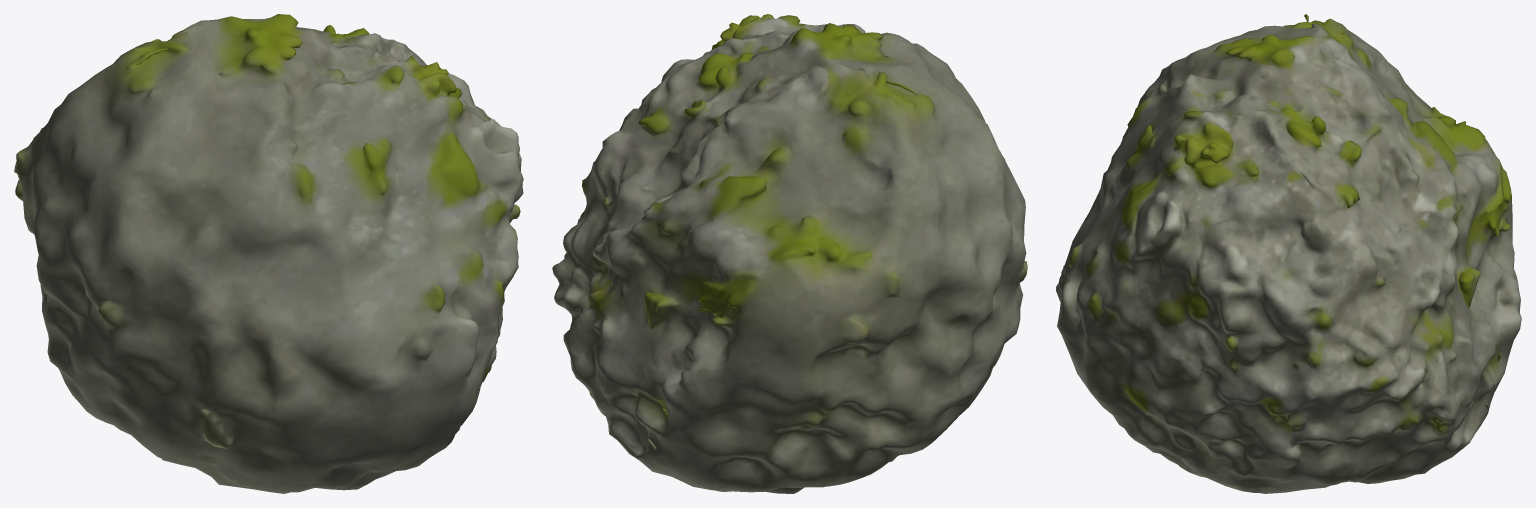
Rendered from rocha.glb.
3 renders of one model, left to right at view 1: azimuth 30°, elevation 25°; view 2: azimuth 150°, elevation 25°; view 3: azimuth 270°, elevation 25°, orthographic. The views are drawn at different scales.
Visible parts, largest first — view 1: tripo_node_2823c72b-a4d2-4040-9269-dd5272ed6950; view 2: tripo_node_2823c72b-a4d2-4040-9269-dd5272ed6950; view 3: tripo_node_2823c72b-a4d2-4040-9269-dd5272ed6950.
Boxes of the visible parts, x1,y1,x2,y2 form: tripo_node_2823c72b-a4d2-4040-9269-dd5272ed6950: (14,14,523,493); tripo_node_2823c72b-a4d2-4040-9269-dd5272ed6950: (552,14,1027,493); tripo_node_2823c72b-a4d2-4040-9269-dd5272ed6950: (1056,14,1521,493).
Size of the model in its own units: 0.998 by 0.9843 by 0.9961.
Materials: 1 (1 with a texture image).
